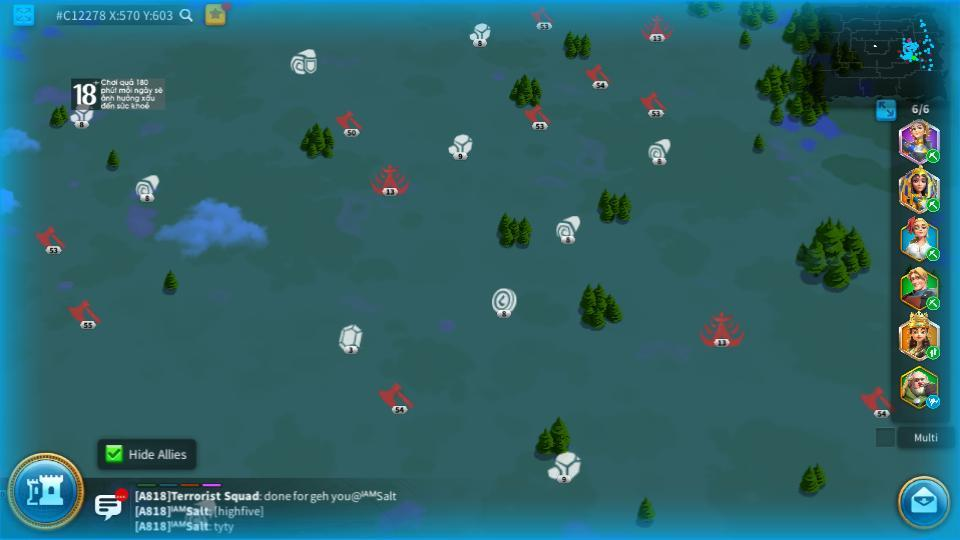gem-z-out: (337, 325, 363, 353)
march_farming: (923, 197, 940, 212), (924, 246, 939, 261), (925, 149, 941, 162), (925, 297, 941, 308)
march_idle: (925, 396, 942, 408)
march_marching: (925, 345, 941, 359)
